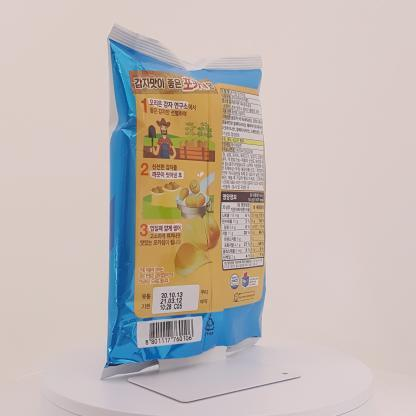Plastic Packaging: (92, 10, 296, 382)
